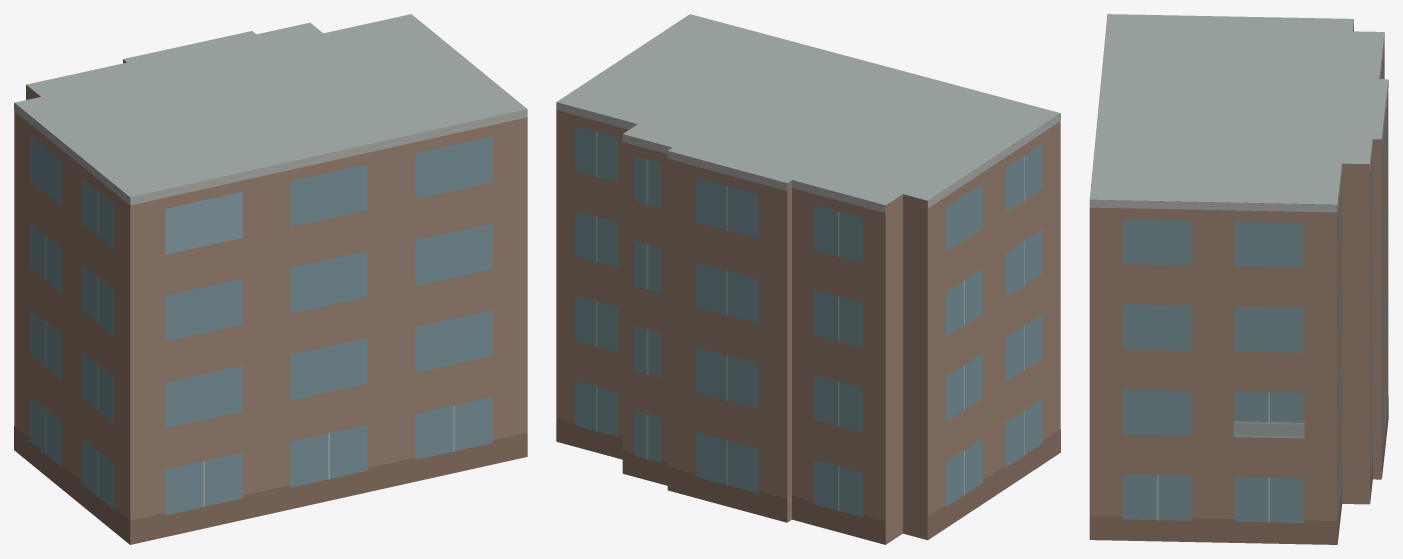
Rendered from survey-upis-32874880.glb.
The picture shows the model from 3 angles, left to right: view 1: azimuth 30°, elevation 25°; view 2: azimuth 150°, elevation 25°; view 3: azimuth 270°, elevation 25°; orthographic projection. The views are drawn at different scales.
Visible parts, largest first — view 1: survey-upis-32874880.tmp; view 2: survey-upis-32874880.tmp; view 3: survey-upis-32874880.tmp.
Part boxes in pixels (bbox=[...]): survey-upis-32874880.tmp: bbox=[14, 14, 527, 544]; survey-upis-32874880.tmp: bbox=[556, 14, 1060, 544]; survey-upis-32874880.tmp: bbox=[1089, 14, 1388, 544].
Size of the model in its own units: 12.54 by 10.43 by 8.31.
